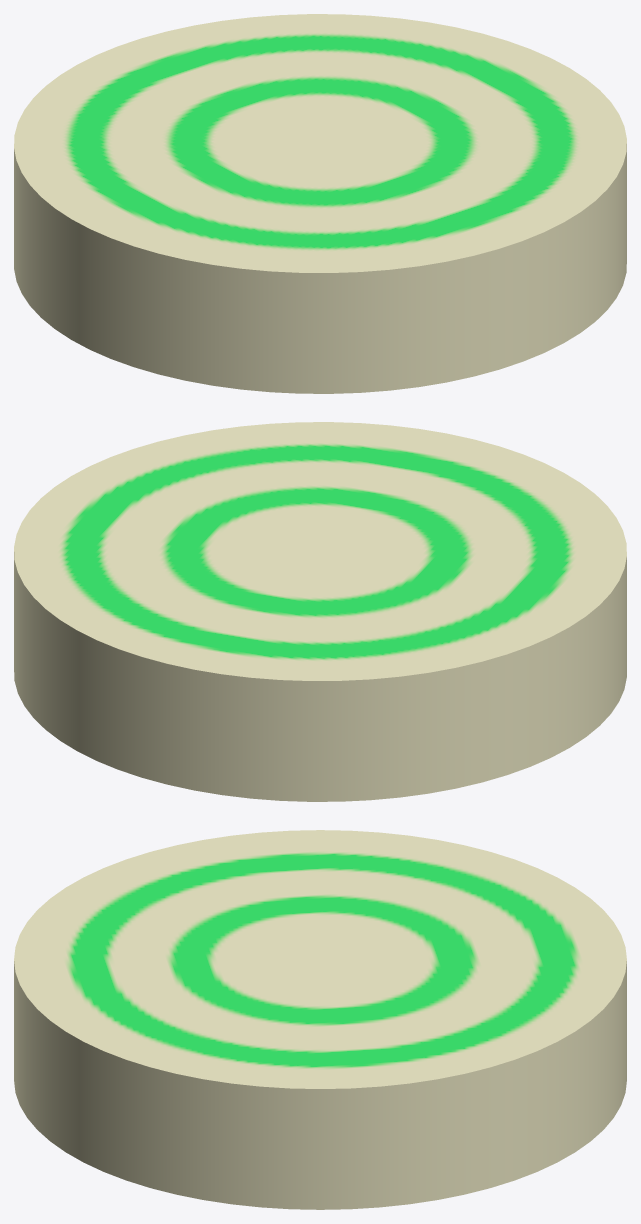
File: striker64.fbx
The picture shows the model from 3 angles, top to bottom: view 1: azimuth 30°, elevation 25°; view 2: azimuth 150°, elevation 25°; view 3: azimuth 270°, elevation 25°; orthographic projection.
Parts seen in each view (by area): view 1: Striker64lowpoly; view 2: Striker64lowpoly; view 3: Striker64lowpoly.
Boxes of the visible parts, x1,y1,x2,y2 form: Striker64lowpoly: [14, 14, 626, 393]; Striker64lowpoly: [14, 422, 626, 801]; Striker64lowpoly: [14, 830, 626, 1209].
Bounding box in the file's own units: 8.28 × 1.8 × 8.28.
